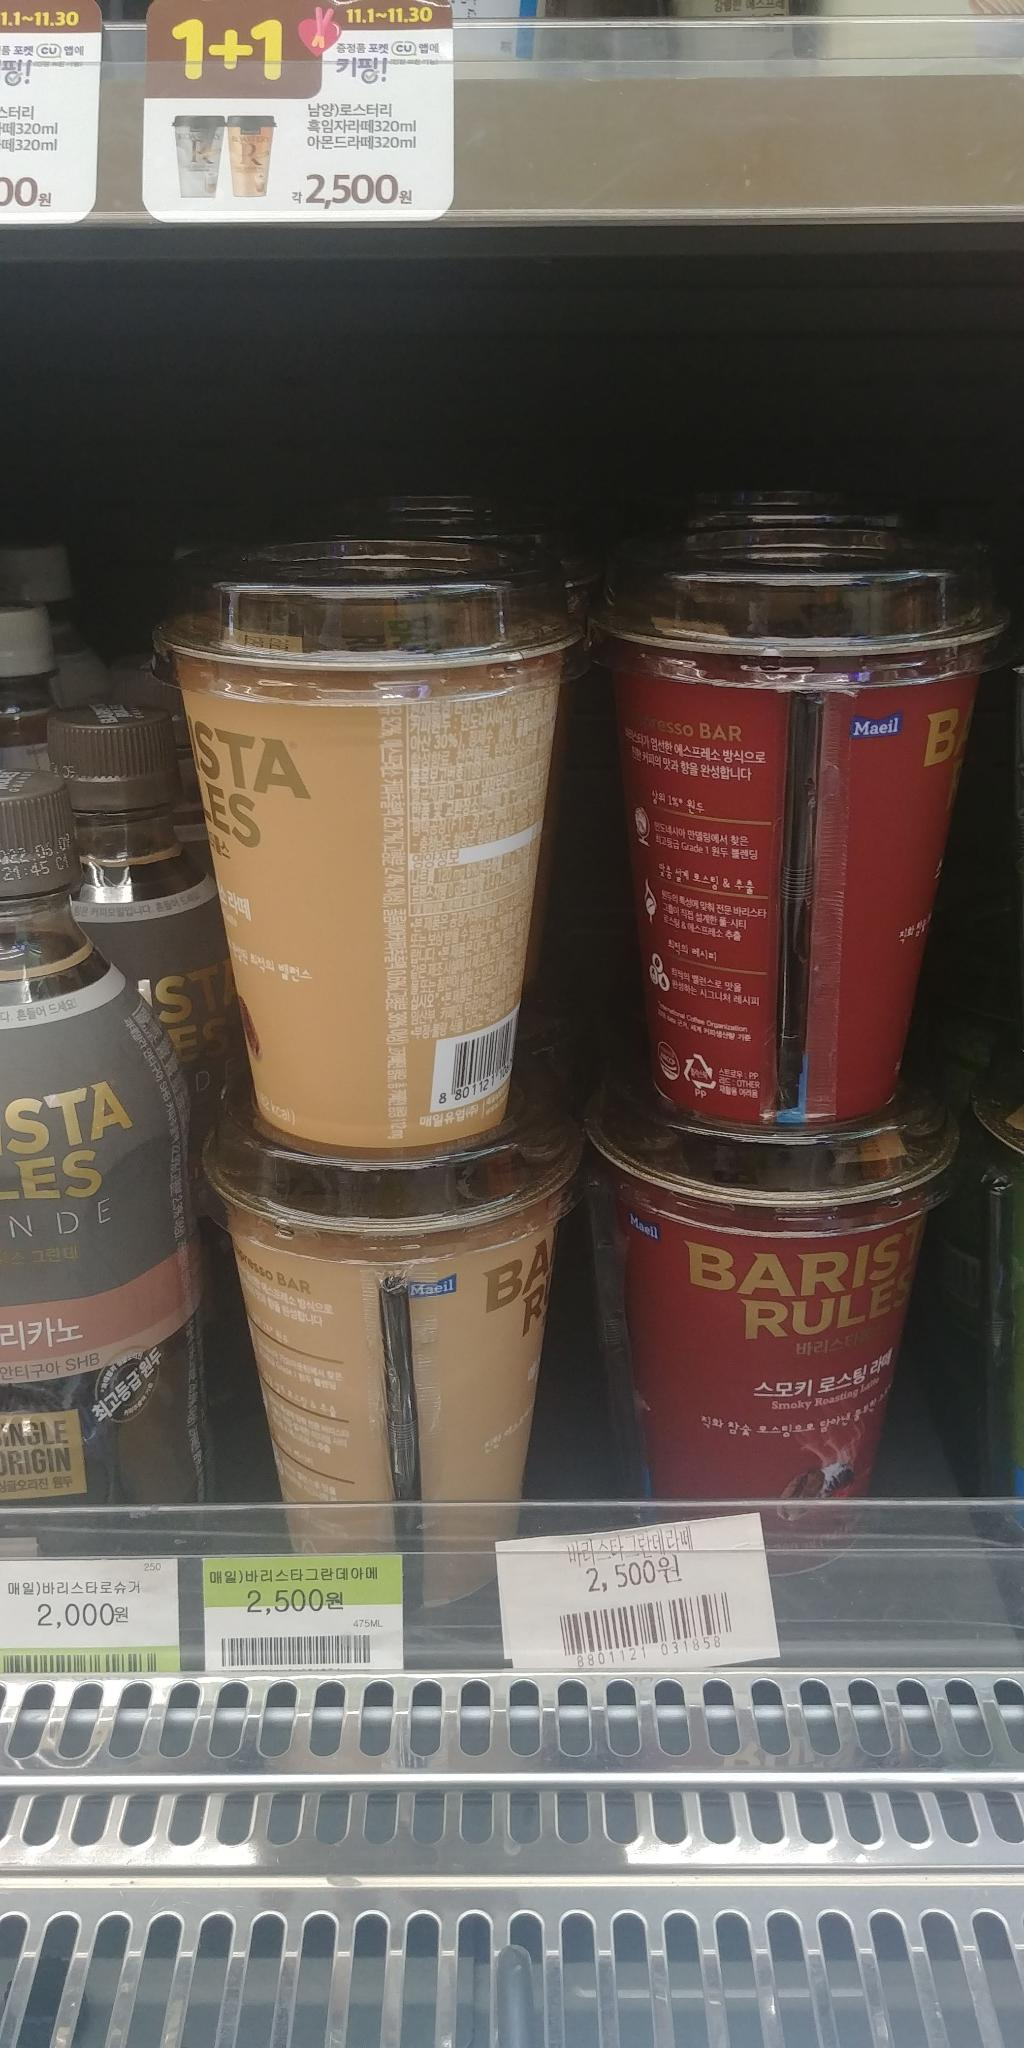baristarules_espressolatte: (161, 512, 554, 1155), (219, 1068, 566, 1593)
